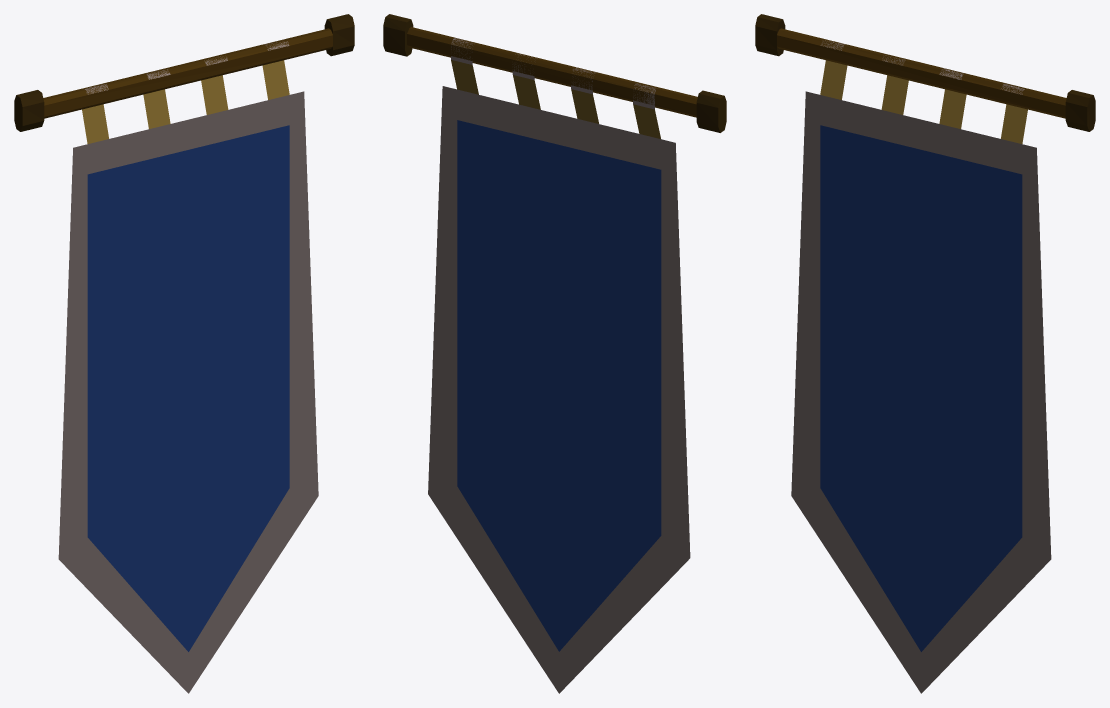
The model's file is tapestry.obj.
The picture shows the model from 3 angles, left to right: view 1: azimuth 30°, elevation 25°; view 2: azimuth 150°, elevation 25°; view 3: azimuth 330°, elevation 25°; orthographic projection.
Visible parts, largest first — view 1: Object Hanging tapestry 2026-09-21_11-28-23; view 2: Object Hanging tapestry 2026-09-21_11-28-23; view 3: Object Hanging tapestry 2026-09-21_11-28-23.
Boxes of the visible parts, x1,y1,x2,y2 form: Object Hanging tapestry 2026-09-21_11-28-23: [14, 14, 354, 693]; Object Hanging tapestry 2026-09-21_11-28-23: [383, 14, 726, 693]; Object Hanging tapestry 2026-09-21_11-28-23: [755, 14, 1095, 693].
Bounding box in the file's own units: 92 × 168 × 4.
